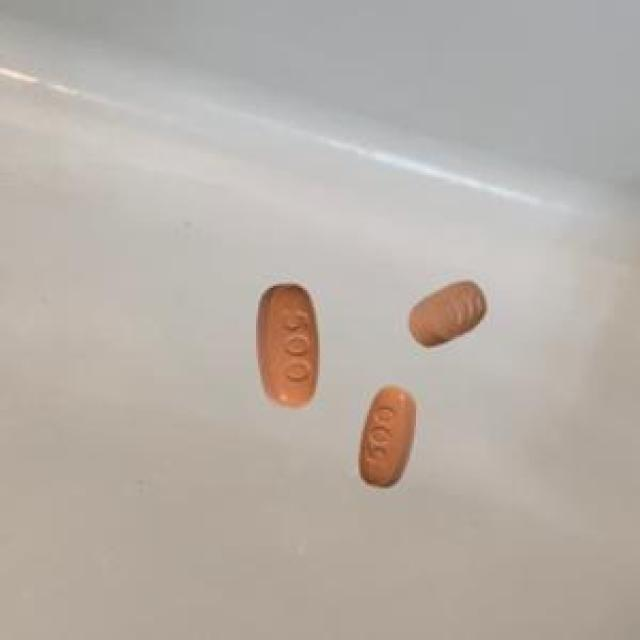Biogesic: (245, 258, 327, 423), (402, 256, 499, 359), (352, 375, 426, 497)
